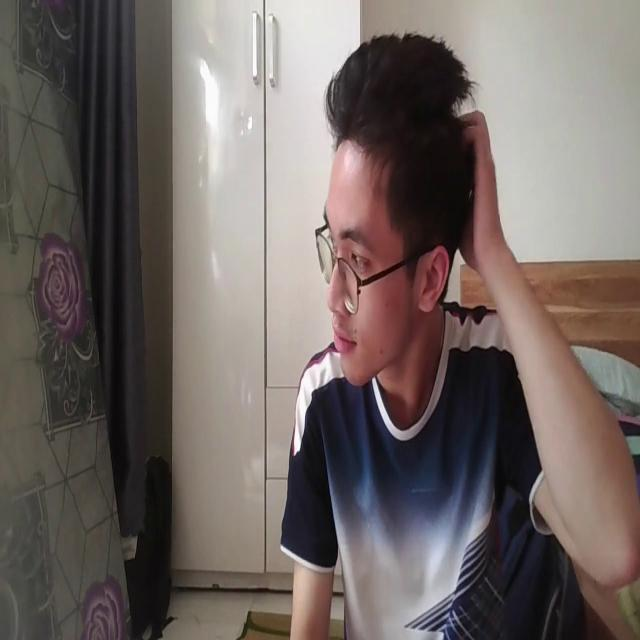student: (272, 32, 638, 640)
